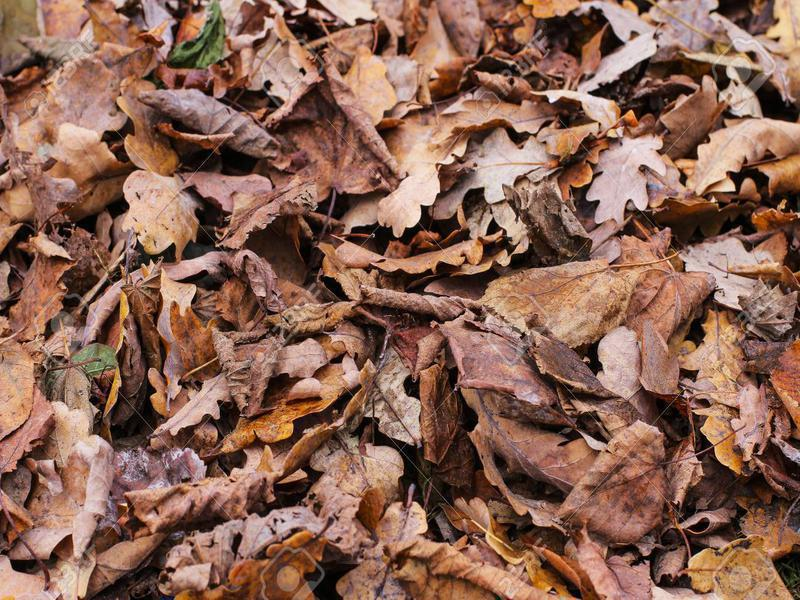leaf: (545, 416, 674, 547), (469, 256, 640, 347), (136, 80, 286, 160), (682, 110, 800, 199), (114, 171, 204, 266), (589, 129, 670, 229), (147, 371, 240, 442), (339, 38, 403, 126), (520, 79, 627, 128), (43, 119, 120, 184)
